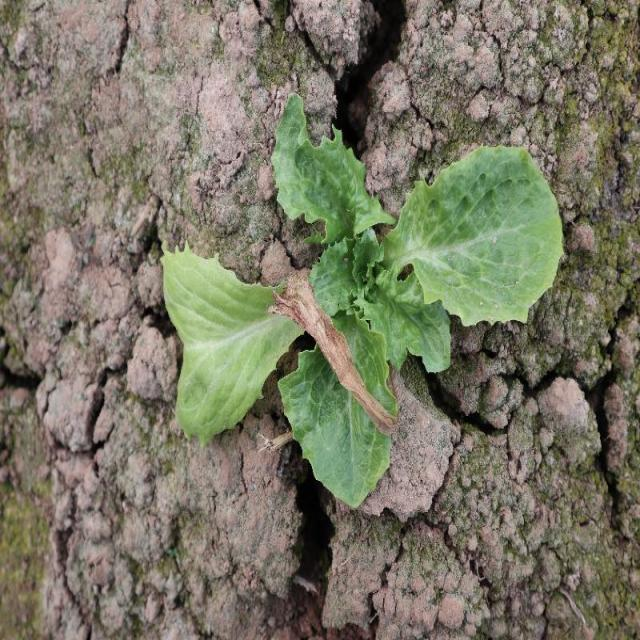crop: (276, 94, 561, 509)
